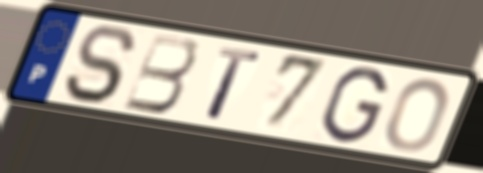7: (261, 50, 333, 136)
B: (120, 31, 200, 116)
G: (319, 65, 391, 145)
O: (383, 76, 453, 154)
S: (60, 23, 140, 107)
T: (204, 44, 264, 124)
